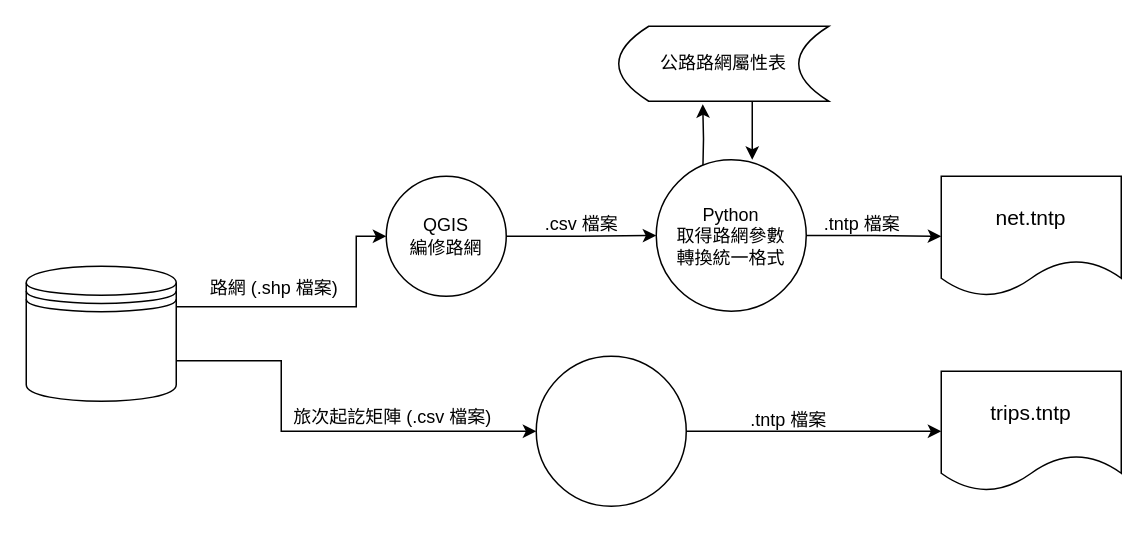
Some shapes in this 1148 by 533 pixel diagram are drawn without their labels. The box of each missing label's shape, as (x1, y1, x2, y2) in pixels:
Python 轉換統一格式 依情境編修: (535, 355, 686, 506)
TRTS-4S: (25, 265, 176, 401)
